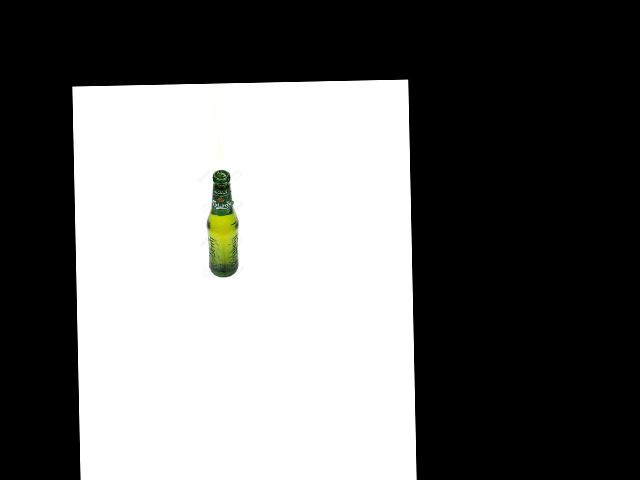beer: (205, 169, 240, 278)
